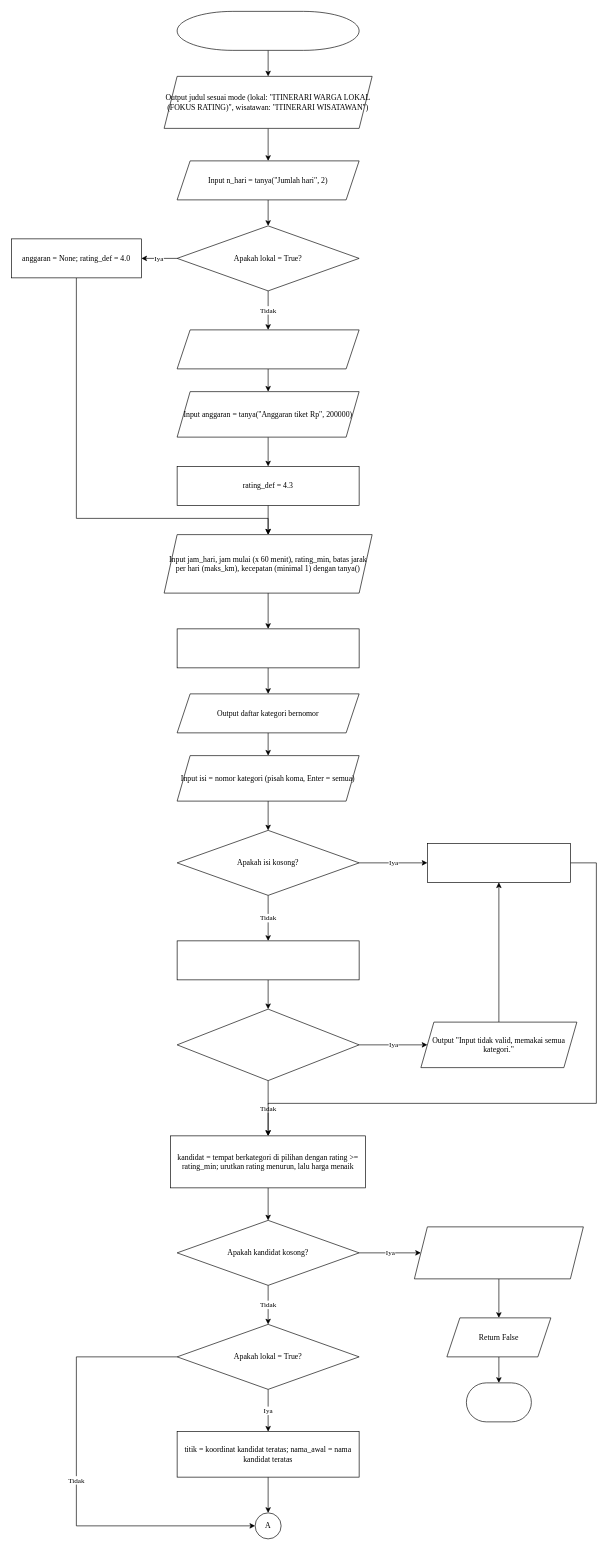
The diagram is 613 pixels wide and 1550 high, and some of its shapes have lost their labels. Each missing label, with the centre of its shape:
Apakah terjadi ValueError / IndexError?: (267,1044)
daftar_kat = kategori unik dari tempat (terurut): (267,648)
MULAI buat_itinerari (tempat, lokal): (267,30)
Output "[!] Tidak ada destinasi yang sesuai. Tekan ENTER...": (498,1252)
pilihan = daftar_kat (semua kategori): (498,862)
pilihan = kategori sesuai nomor pada isi: (267,960)
SELESAI: (498,1402)
titik, nama_awal = pilih_titik_awal(tempat): (267,349)
